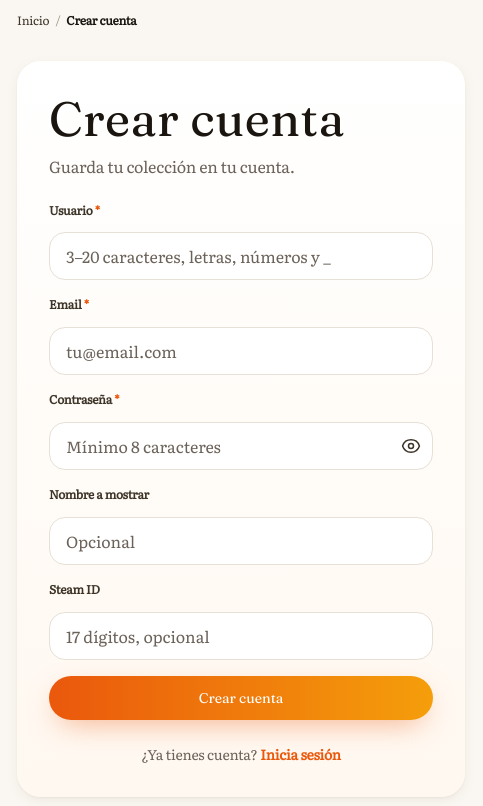
it: RegisterPage › muestra errores del backend
The image size is (483, 806).
Type "nuevouser" into the field labelled "Usuario *" at (241, 256), box x1=49 y1=232 x2=433 y2=280
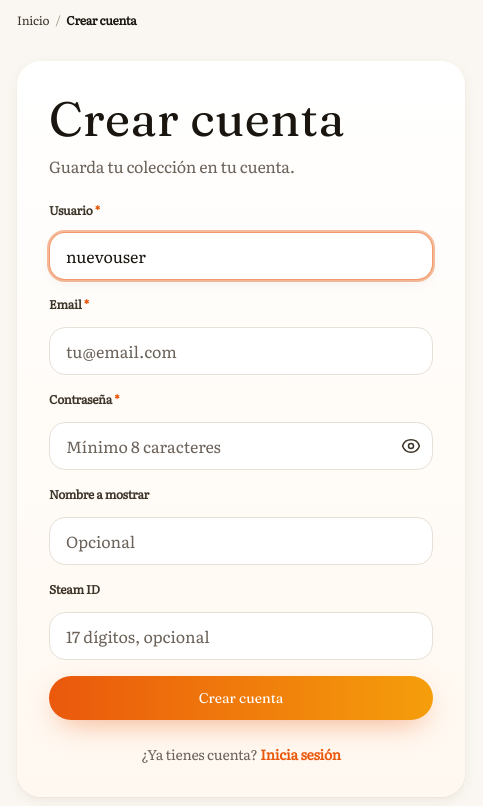
Type "nuevo@test.com" into the field labelled "Email *" at (241, 351), box x1=49 y1=327 x2=433 y2=375
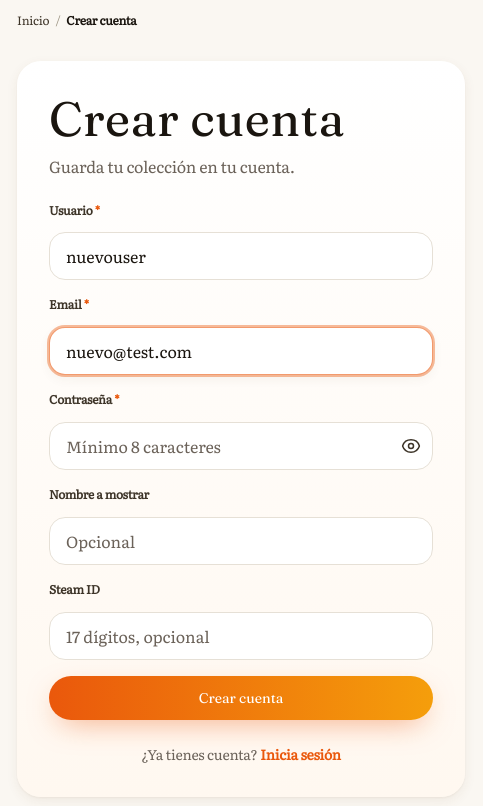
Type "secret123" into the password field labelled "Contraseña *" at (241, 446), box x1=49 y1=422 x2=433 y2=470
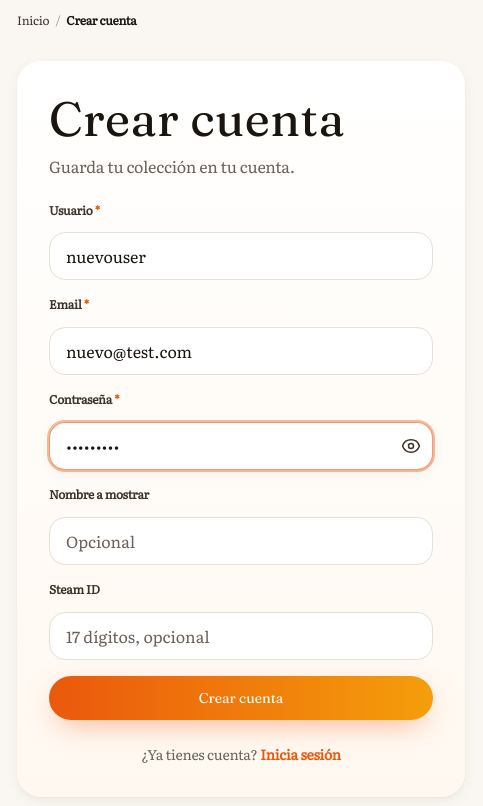
Click the button "Crear cuenta" at (241, 698), box x1=49 y1=676 x2=433 y2=720
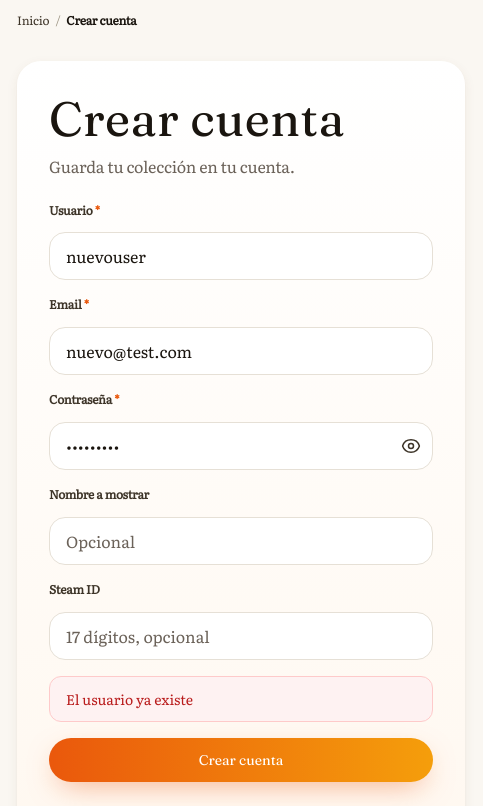
Check: the message reads "El usuario ya existe", box x1=66 y1=689 x2=193 y2=709
